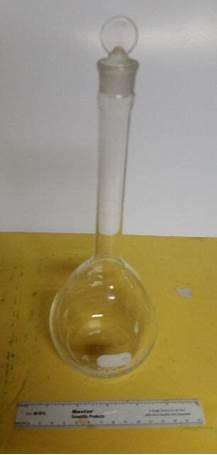Volumetric flask: (52, 16, 161, 373)
